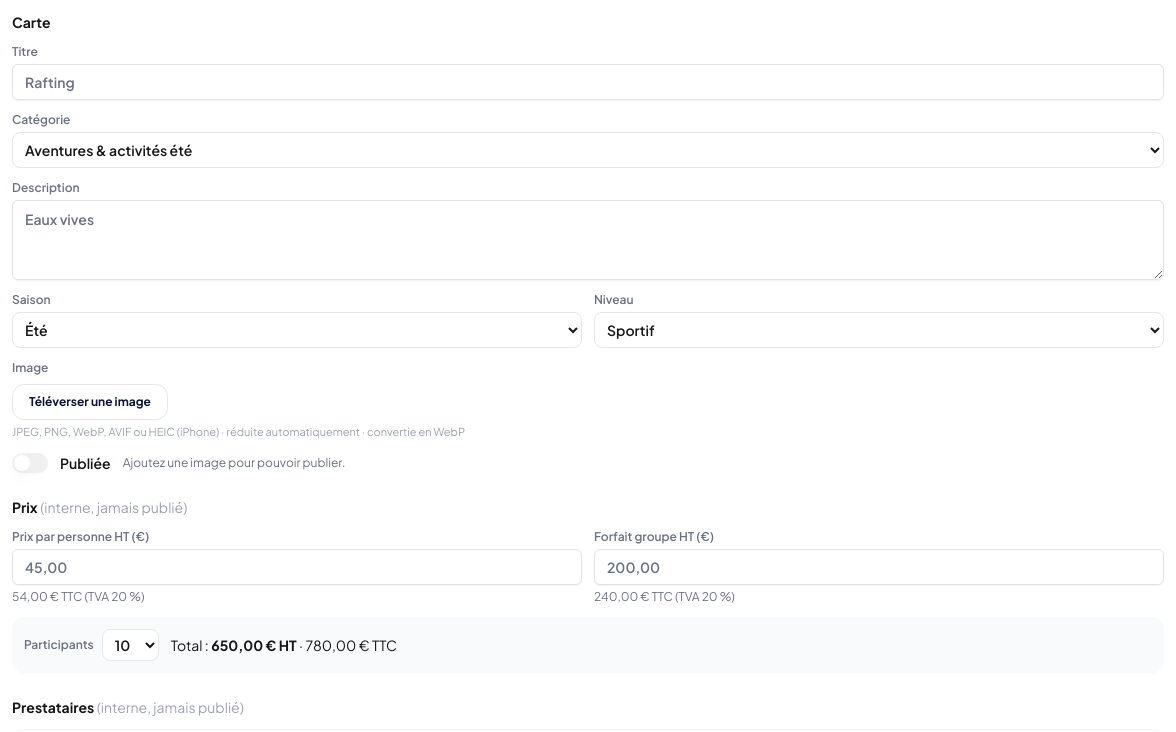
spec 097 AC-05 — prix internes et simulateur › affiche les équivalents TTC et le total pour 10 participants par défaut
The image size is (1176, 732).
Expected: the text "54,00 € TTC (TVA 20 %)" is shown, [12,588,144,604]
Select "30" in the dropdown labelled "Participants": [130, 644] box [102,628,159,660]
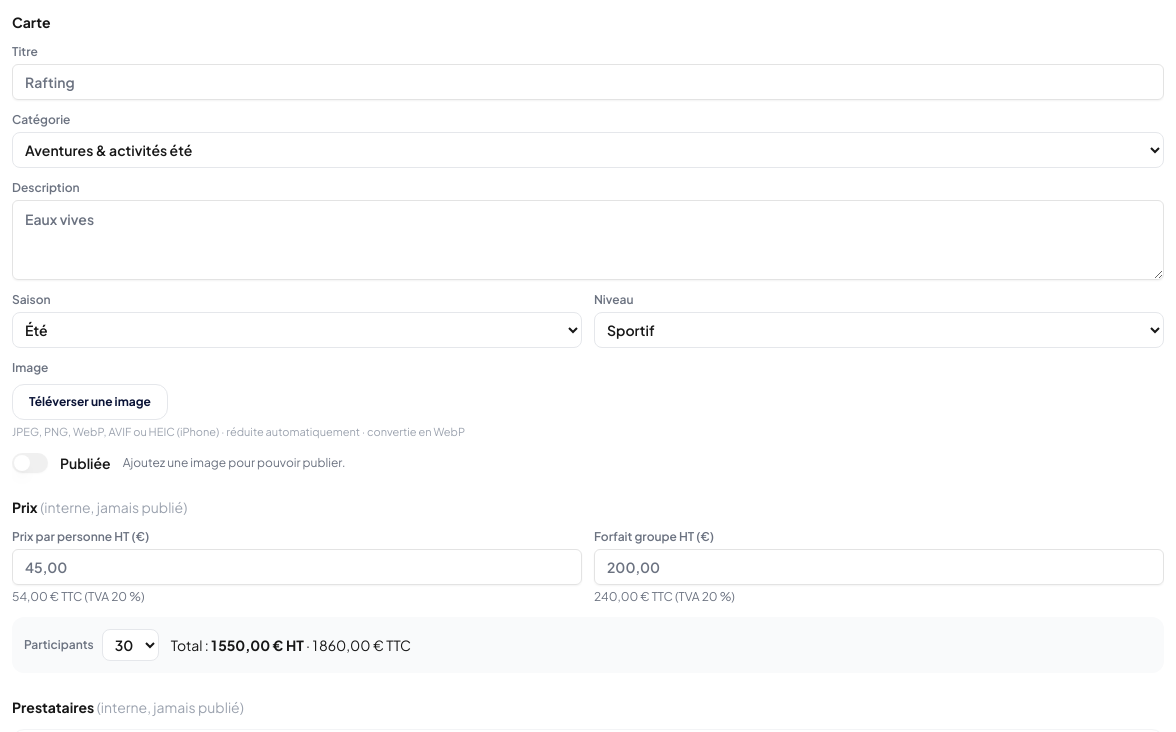
Result: the element with test id "seminar-price-simulator" shows "1 550,00 € HT · 1 860,00 € TTC" at [12,616,1164,672]
